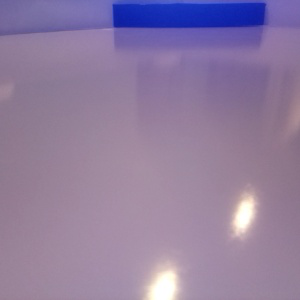zone: (112, 5, 265, 26)
